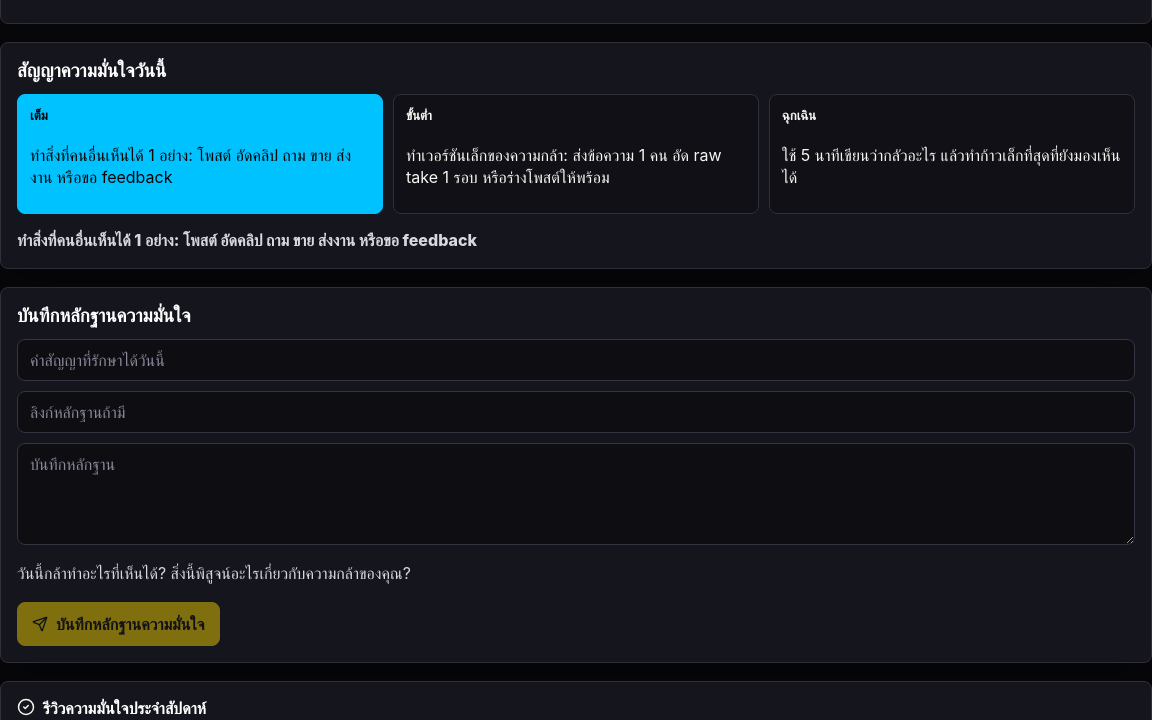
it: ConfidenceCenter › pushes confidence proof to the shared sheet when sync is configured
(page scrolled)
In the field with placeholder "คำสัญญาที่รักษาได้วันนี้": coordinates (576, 360) [17,339,1135,381], type "อัดคลิปดิบ 1 คลิป"
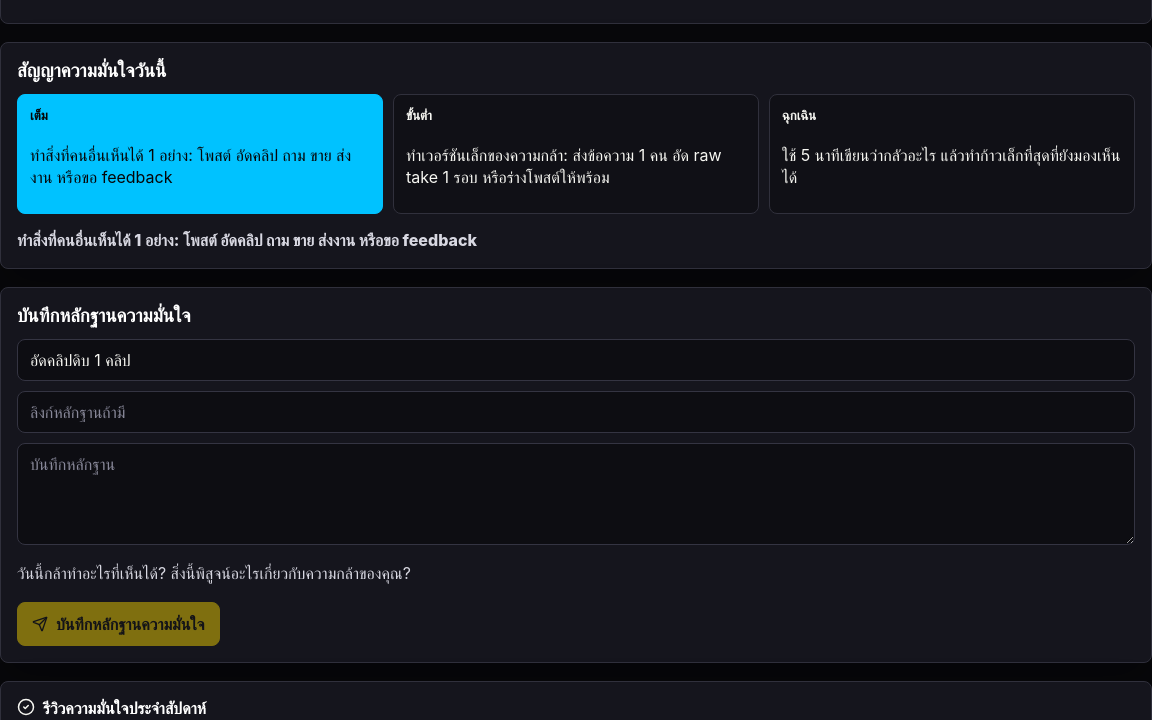
In the text box with placeholder "บันทึกหลักฐาน": coordinates (576, 494) [17,443,1135,545], type "อัดก่อนพร้อมจริง"
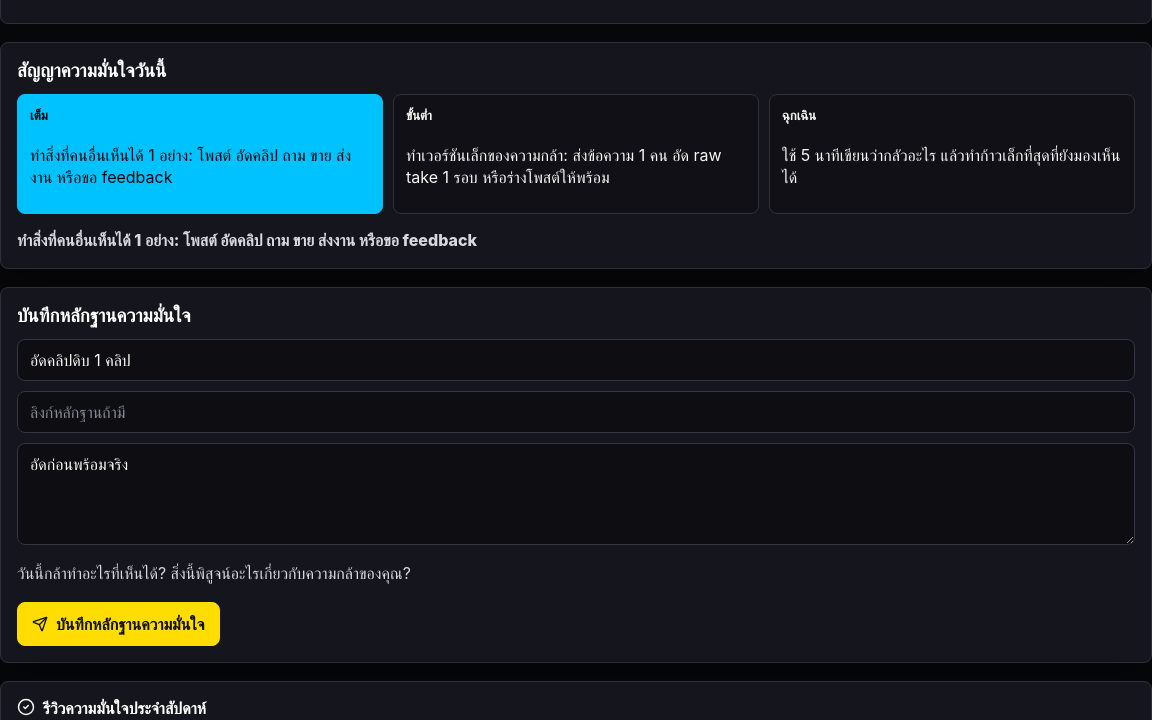
Click the button "บันทึกหลักฐานความมั่นใจ": coordinates (118, 624) [17,602,220,646]
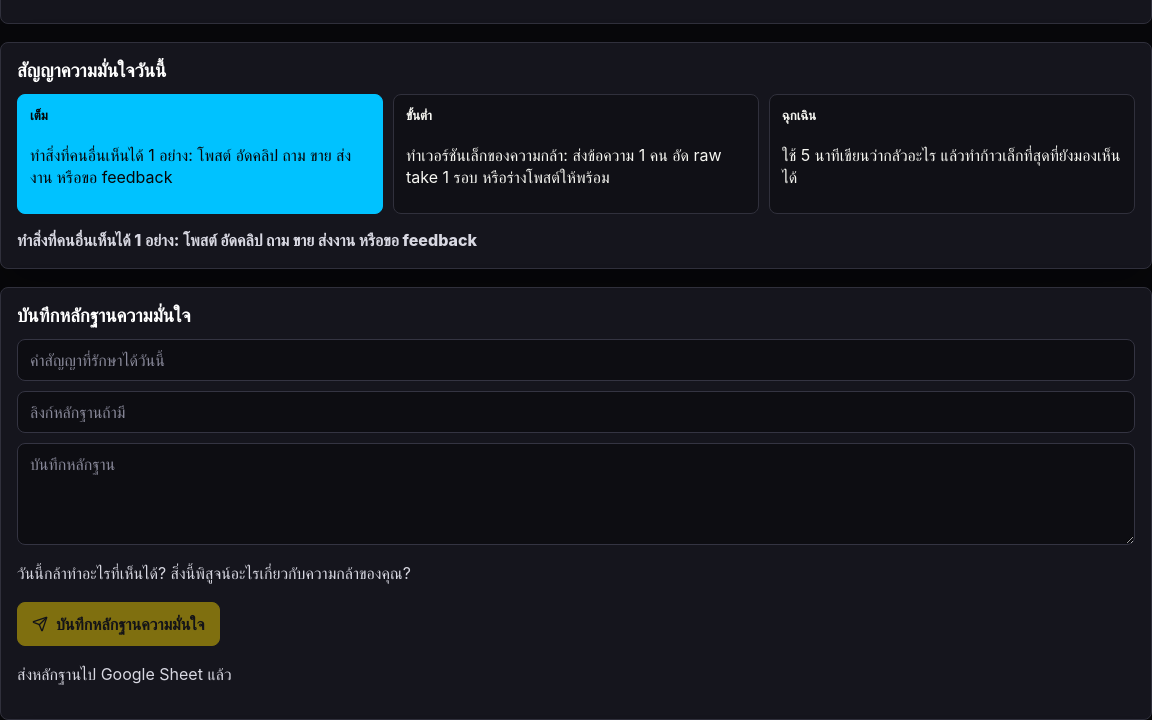
Expected: the text "ส่งหลักฐานไป Google Sheet แล้ว" is shown, [17,664,232,684]
